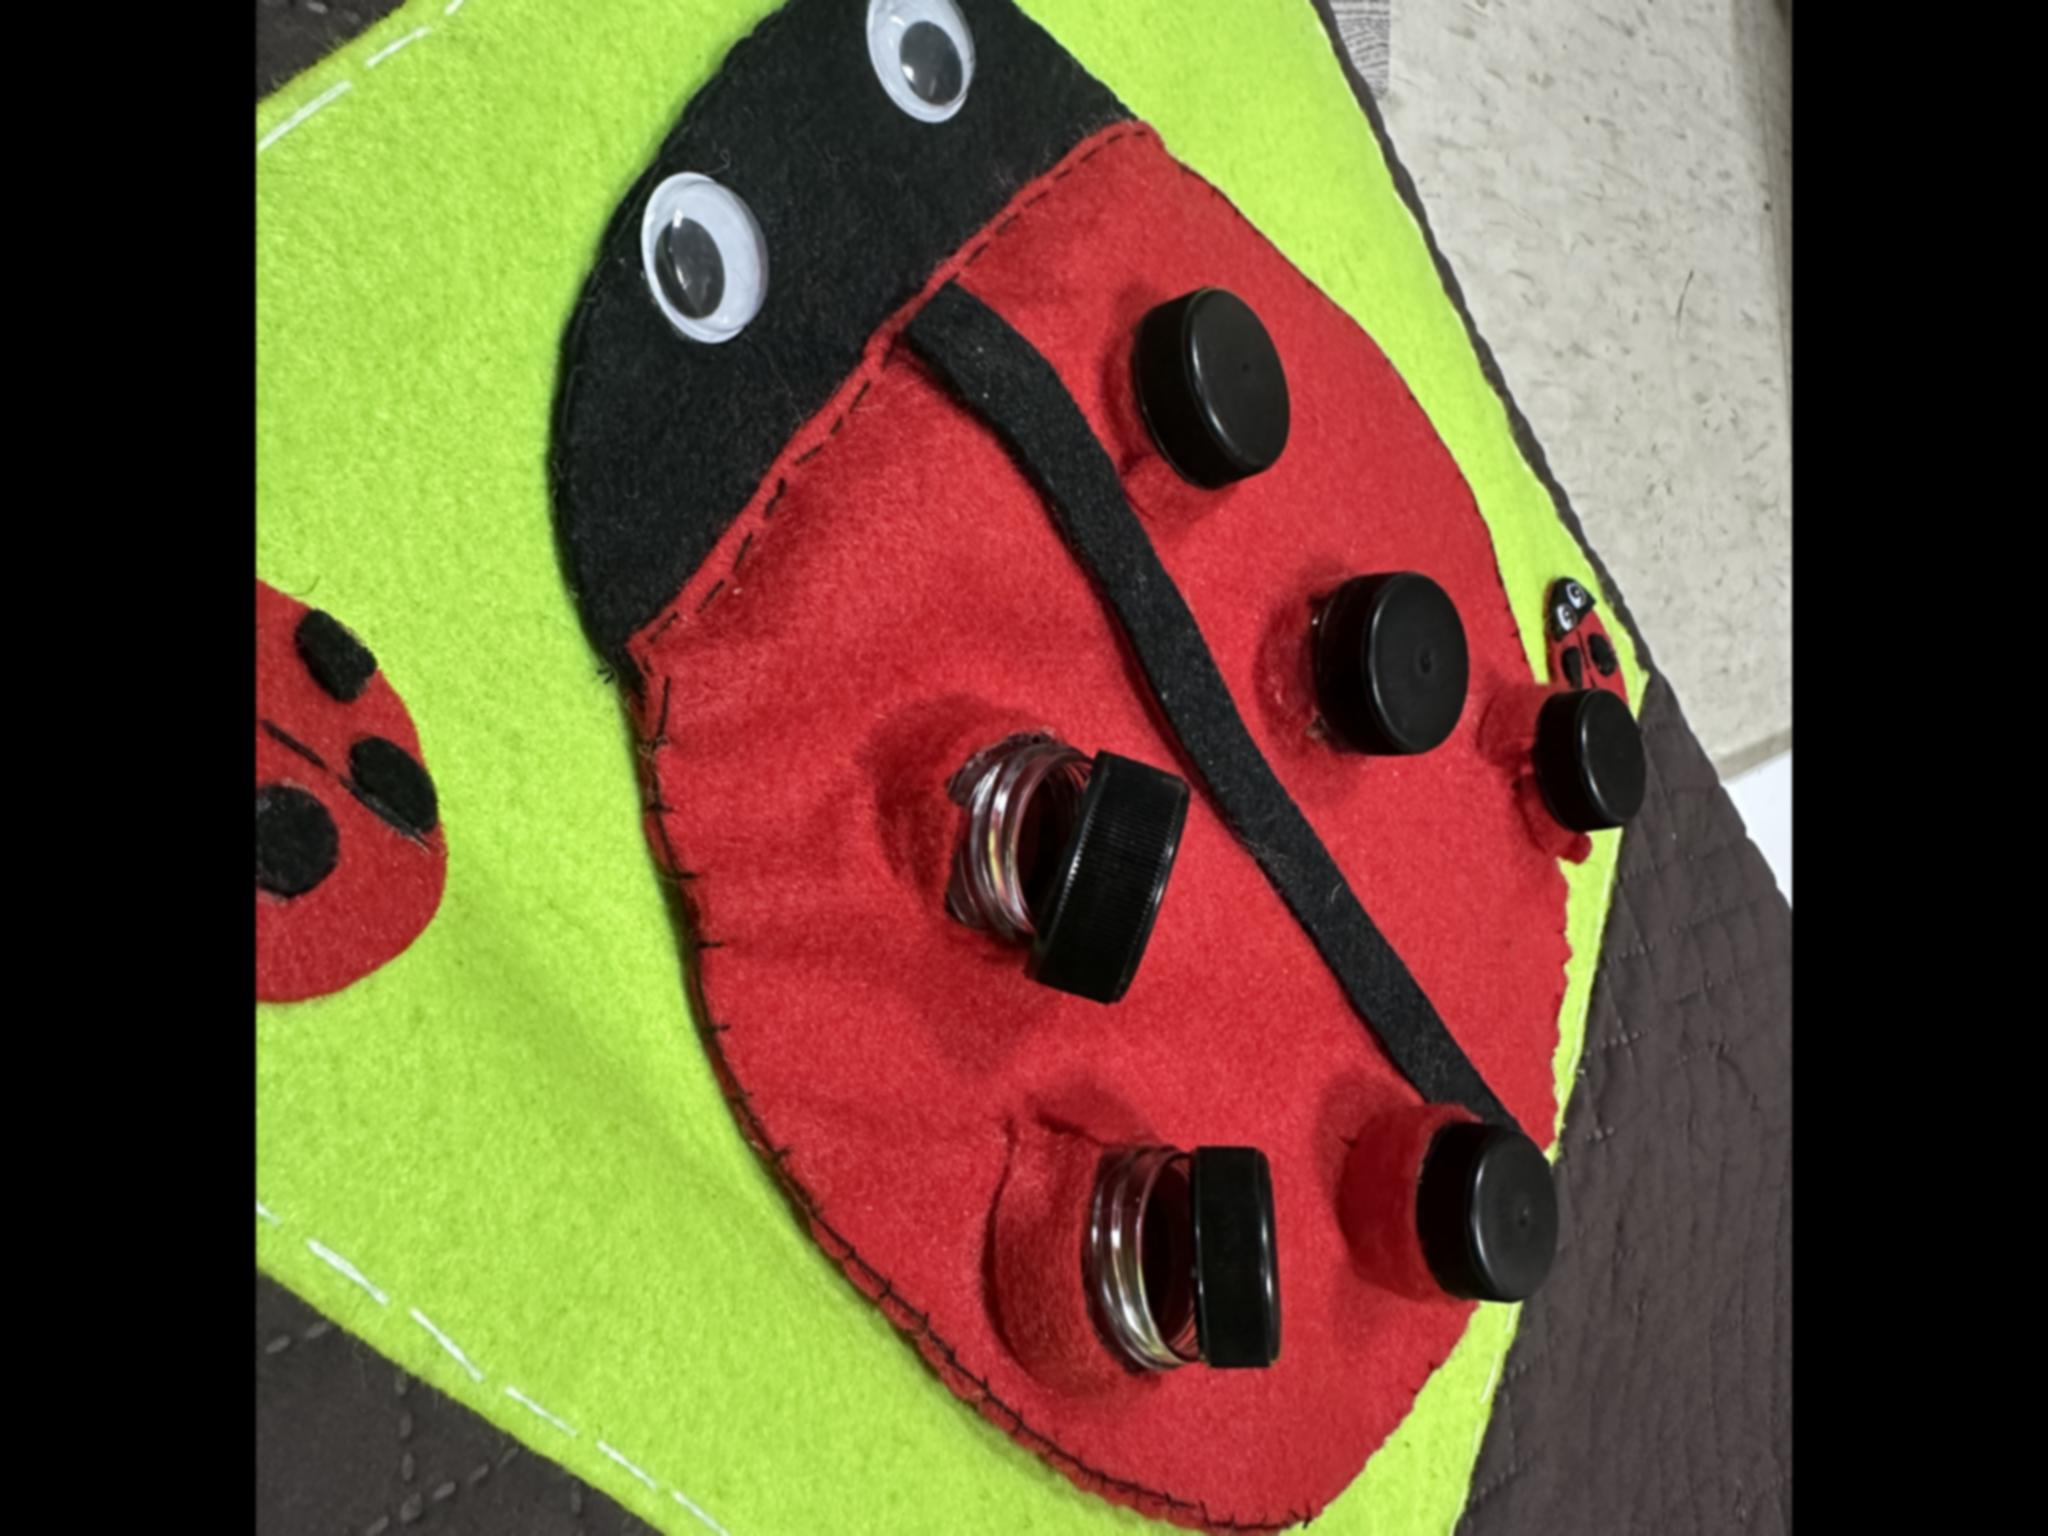cap_ng: (959, 1123, 1317, 1397), (885, 715, 1195, 1015)
cap_ok: (1097, 269, 1309, 542), (1253, 550, 1477, 795), (1335, 1102, 1580, 1310), (1480, 673, 1650, 878)
